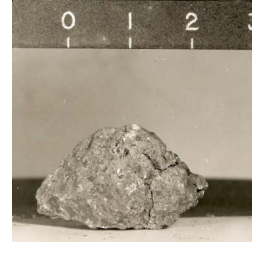Breccia: (40, 124, 214, 234)
